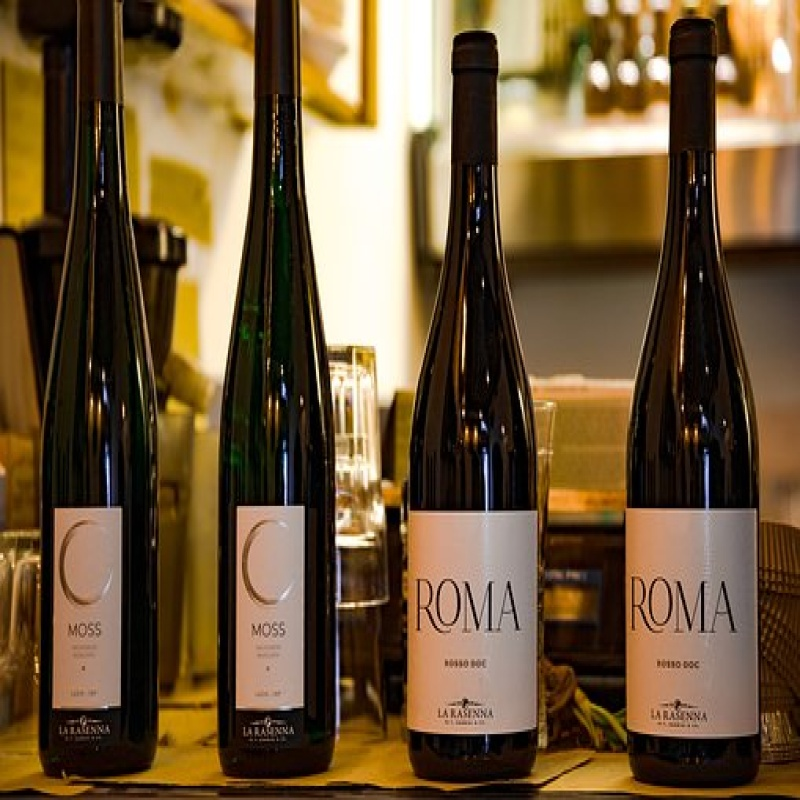wine: (625, 21, 773, 772), (406, 28, 545, 782), (216, 10, 344, 768), (43, 9, 159, 770)
